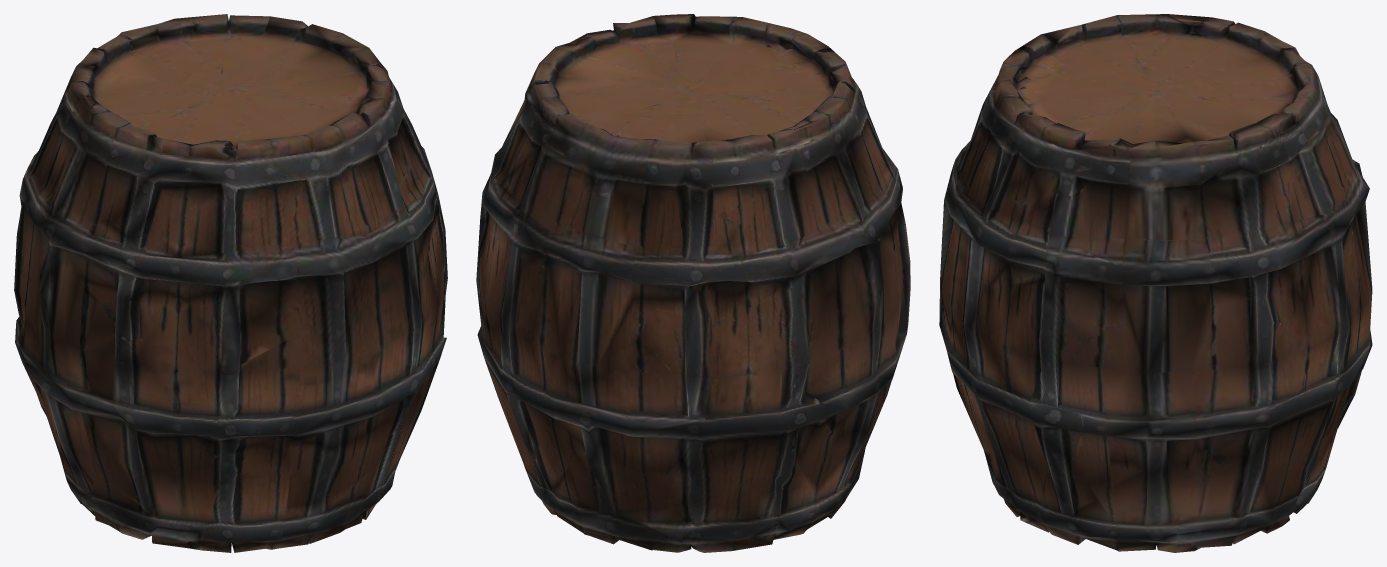
File: barrel.glb
3 views of the same model, side by side, from view 1: azimuth 30°, elevation 25°; view 2: azimuth 150°, elevation 25°; view 3: azimuth 270°, elevation 25° (orthographic).
Size of the model in its own units: 1.83 by 1.9 by 1.83.
Materials: 1 (1 with a texture image).
